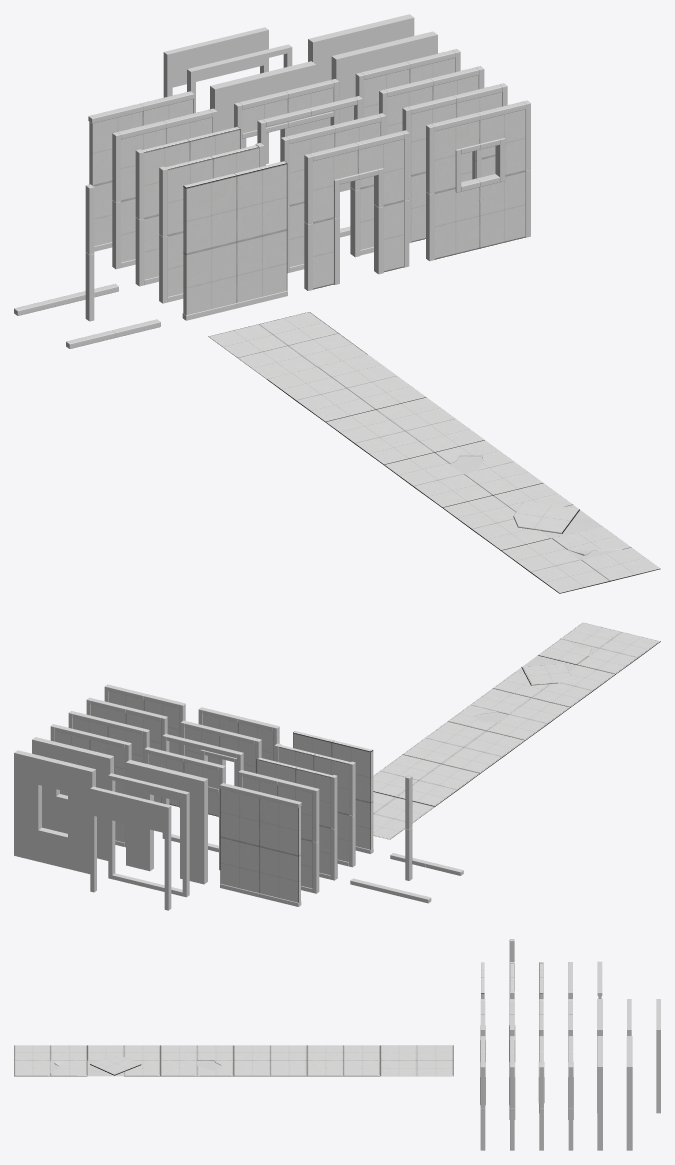
Rendered from DemoParts.fbx.
3 renders of one model, top to bottom at view 1: azimuth 30°, elevation 25°; view 2: azimuth 150°, elevation 25°; view 3: azimuth 270°, elevation 25°, orthographic. The views are drawn at different scales.
Visible parts, largest first — view 1: Wall_01, Window_01, Doorway_01, Doorway_02, Floor_06, Floor_04, Floor_02, Floor_03, Floor_05, Floor_01, Wall_02, Wall_04 (+15 smaller); view 2: Wall_05, Window_COL2, Doorway_COL1, Doorway_COL4, Floor_06, Floor_03, Floor_04, Floor_05, Window_COL1, Floor_02, Wall_04, Wall_02 (+15 smaller); view 3: Floor_01, Floor_05, Floor_02, Floor_03, Floor_04, Floor_06, Window_COL2, Window_02, Window_COL1, Window_01, Window_04, Window_03 (+2 smaller).
Part boxes in pixels (left/top/right/bottom): Wall_01: left=182, top=161, right=287, bottom=320; Window_01: left=426, top=100, right=530, bottom=261; Doorway_01: left=304, top=130, right=409, bottom=290; Doorway_02: left=281, top=113, right=385, bottom=273; Floor_06: left=501, top=526, right=660, bottom=593; Floor_04: left=384, top=440, right=543, bottom=507; Floor_02: left=267, top=354, right=426, bottom=422; Floor_03: left=325, top=397, right=484, bottom=464; Floor_05: left=443, top=483, right=601, bottom=550; Floor_01: left=208, top=312, right=367, bottom=379; Wall_02: left=159, top=143, right=264, bottom=303; Wall_04: left=112, top=108, right=217, bottom=269; Wall_05: left=220, top=783, right=301, bottom=906; Window_COL2: left=14, top=750, right=95, bottom=874; Doorway_COL1: left=126, top=760, right=207, bottom=884; Doorway_COL4: left=90, top=786, right=171, bottom=910; Floor_06: left=538, top=622, right=660, bottom=674; Floor_03: left=402, top=721, right=525, bottom=773; Floor_04: left=448, top=688, right=570, bottom=740; Floor_05: left=493, top=655, right=615, bottom=707; Window_COL1: left=32, top=737, right=113, bottom=860; Floor_02: left=373, top=754, right=479, bottom=806; Wall_04: left=238, top=770, right=319, bottom=893; Wall_02: left=274, top=743, right=355, bottom=867; Floor_01: left=380, top=1045, right=453, bottom=1076; Floor_05: left=87, top=1045, right=160, bottom=1076; Floor_02: left=307, top=1045, right=380, bottom=1076; Floor_03: left=233, top=1045, right=306, bottom=1076; Floor_04: left=160, top=1045, right=233, bottom=1076; Floor_06: left=14, top=1045, right=87, bottom=1076; Window_COL2: left=626, top=1036, right=632, bottom=1150; Window_02: left=509, top=1036, right=515, bottom=1150; Window_COL1: left=597, top=1036, right=602, bottom=1150; Window_01: left=480, top=1036, right=485, bottom=1150; Window_04: left=568, top=1036, right=573, bottom=1150; Window_03: left=538, top=1036, right=544, bottom=1150.
Size of what is drawn, in the model's own units: 1150 by 315 by 2208.
